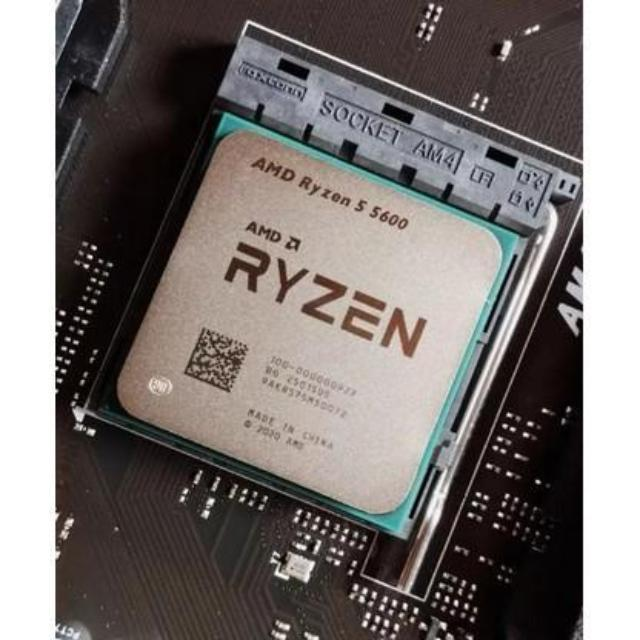CPU: (110, 110, 521, 527)
